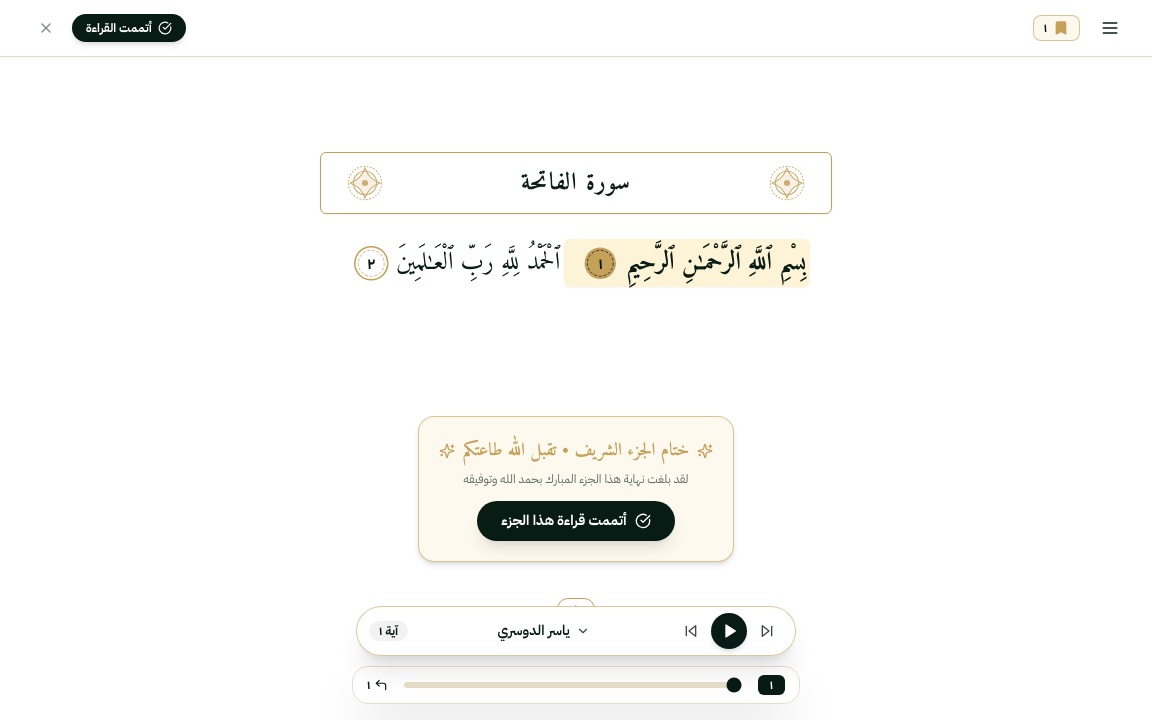
Test: QuranReaderModal › Ayah 2-second long-press gesture › tolerates micro-jitter (< 15px) without canceling long press
The image size is (1152, 720).
Press the mouse on the element with test id "ayah-1-2" at coordinates (453, 263), box top-left (342, 239), bottom-right (564, 287)
Wait 2000 ms
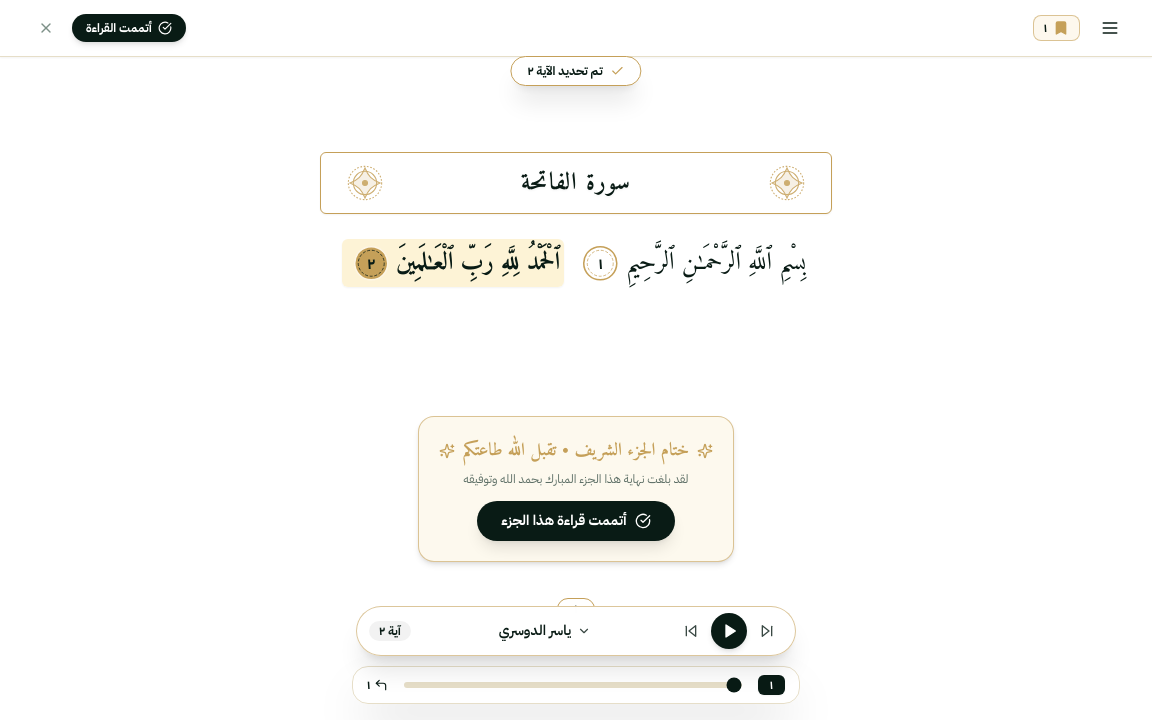
Now the message "تم تحديد الآية ٢" is shown, box top-left (510, 56), bottom-right (642, 86)
